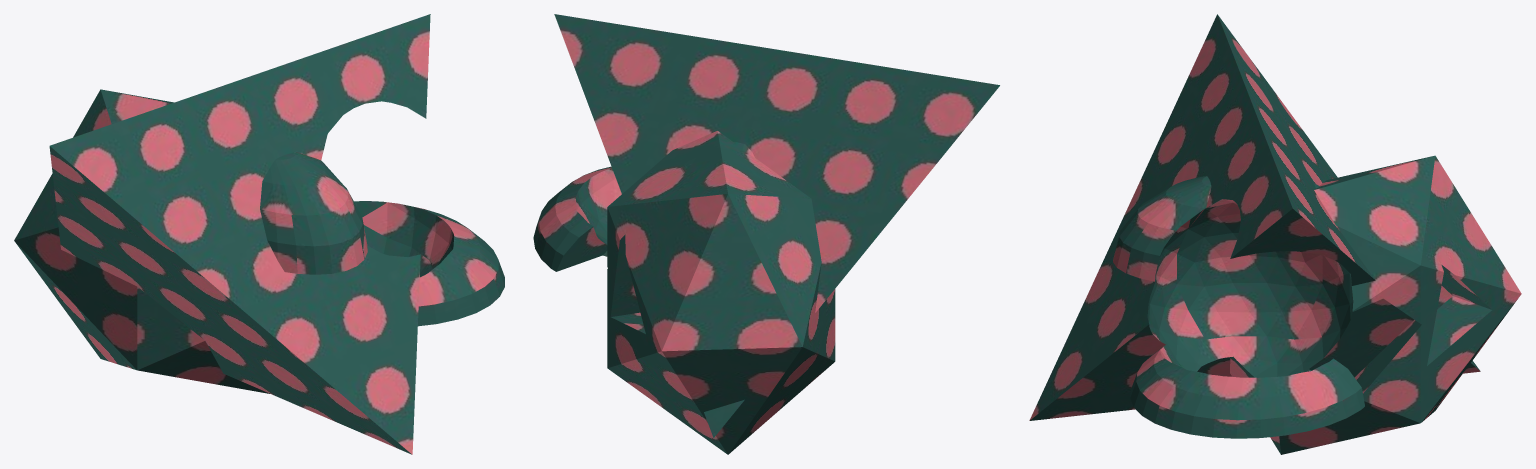
3 views of the same model, side by side, from view 1: azimuth 30°, elevation 25°; view 2: azimuth 150°, elevation 25°; view 3: azimuth 270°, elevation 25° (orthographic). The views are drawn at different scales.
Parts seen in each view (by area): view 1: geometry_0; view 2: geometry_0; view 3: geometry_0.
Part boxes in pixels (x1,y1,x2,y2): geometry_0: [14, 14, 504, 454]; geometry_0: [533, 14, 999, 454]; geometry_0: [1029, 14, 1521, 454].
Size of the model in its own units: 2.21 by 1.58 by 2.2.
Materials: 1 (1 with a texture image).
